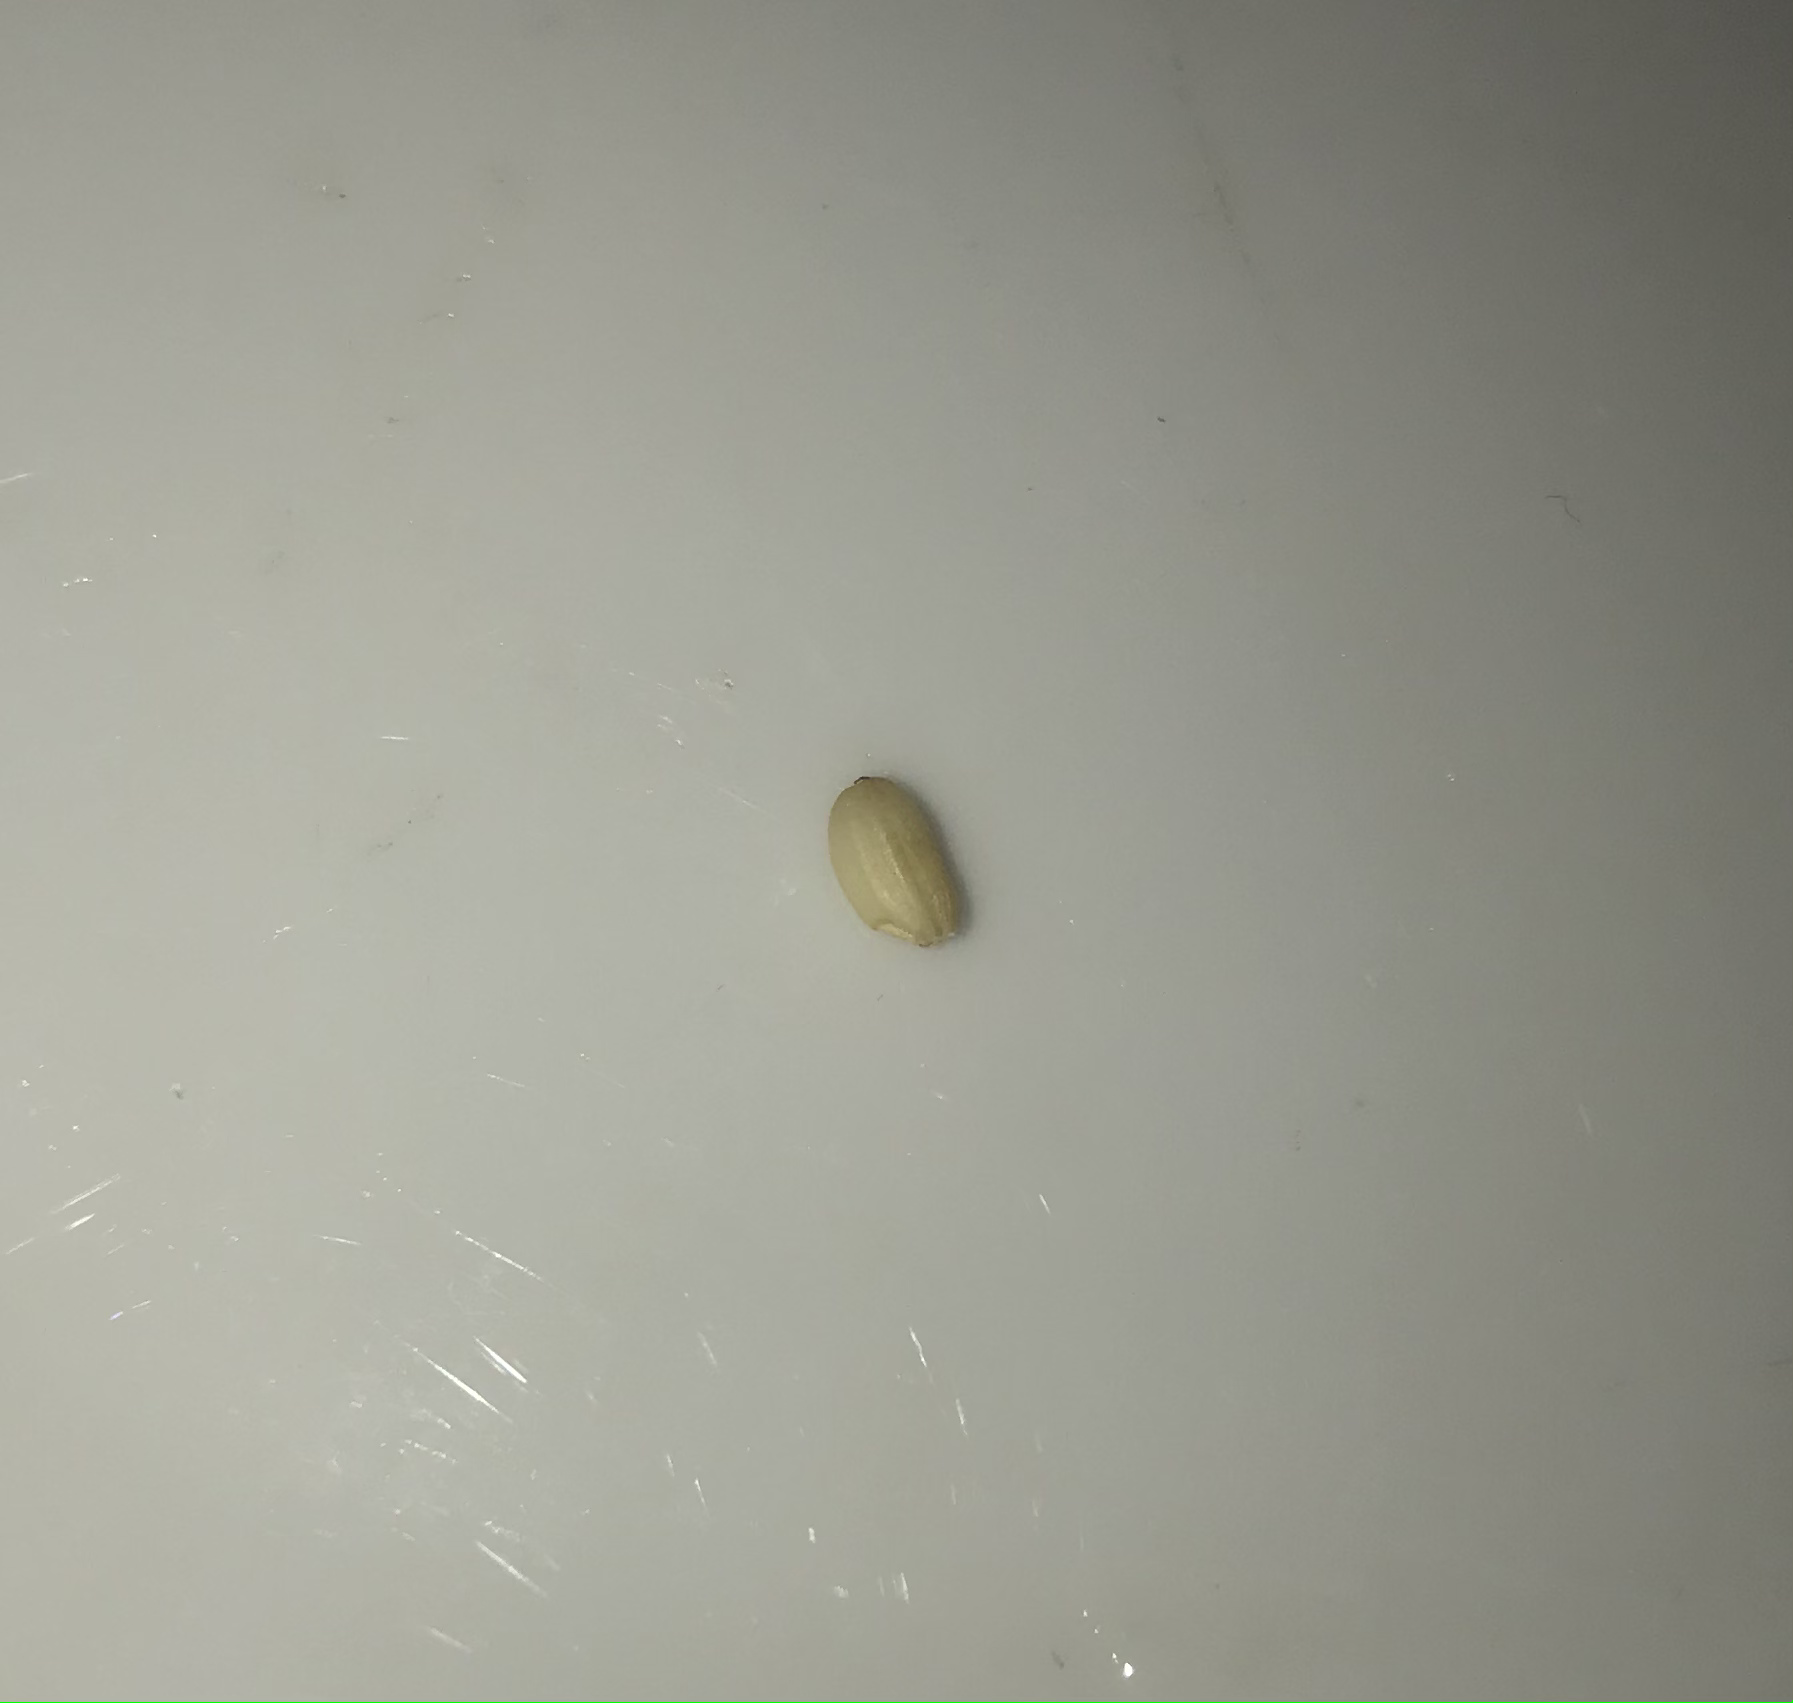Gao Lut Bac: (821, 760, 970, 975)
